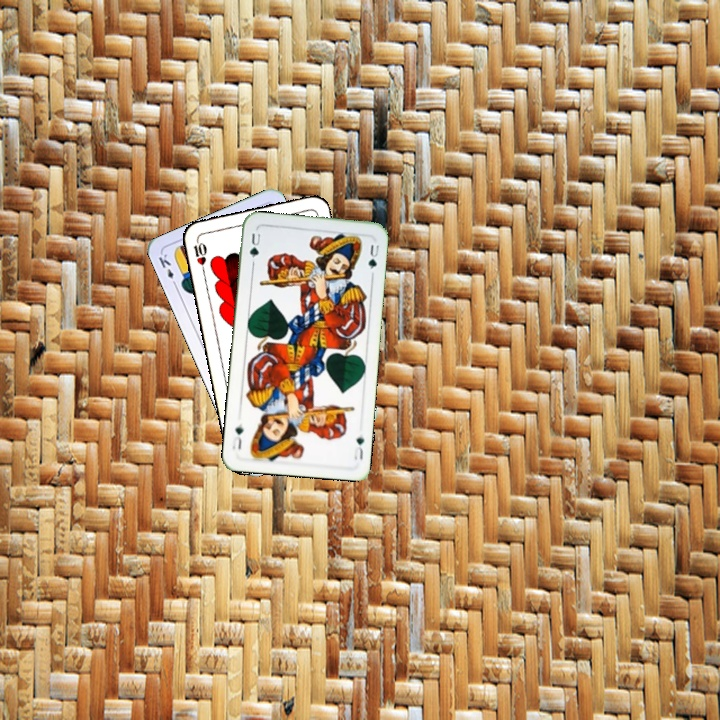EK: (154, 250, 180, 289)
GU: (246, 229, 263, 267), (350, 433, 367, 463)
H10: (190, 235, 209, 275)
